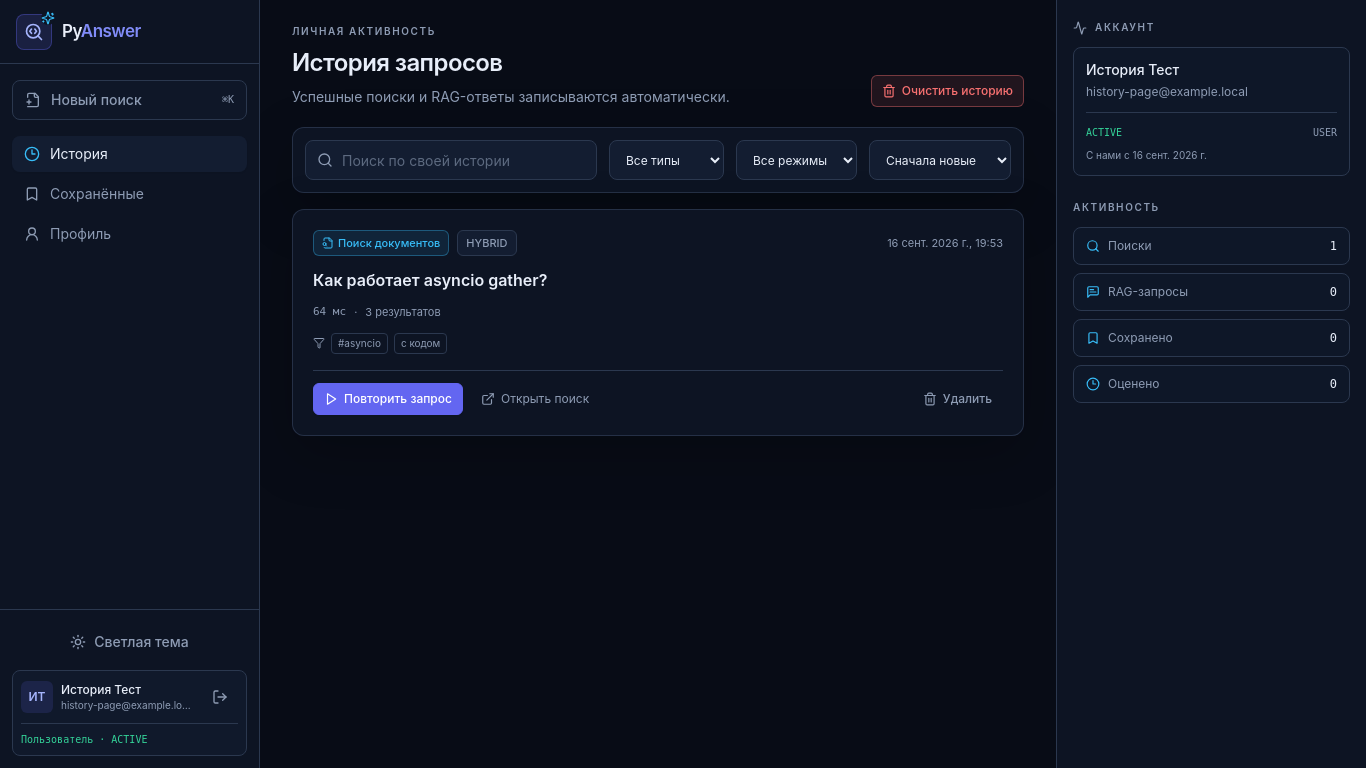
Test: HistoryPage › очищает историю только после подтверждения
Expected: the heading "Как работает asyncio gather?" is shown, [313,270,547,290]
Step 1. Click the button "Очистить историю" → (947, 91), box [871,75,1024,107]
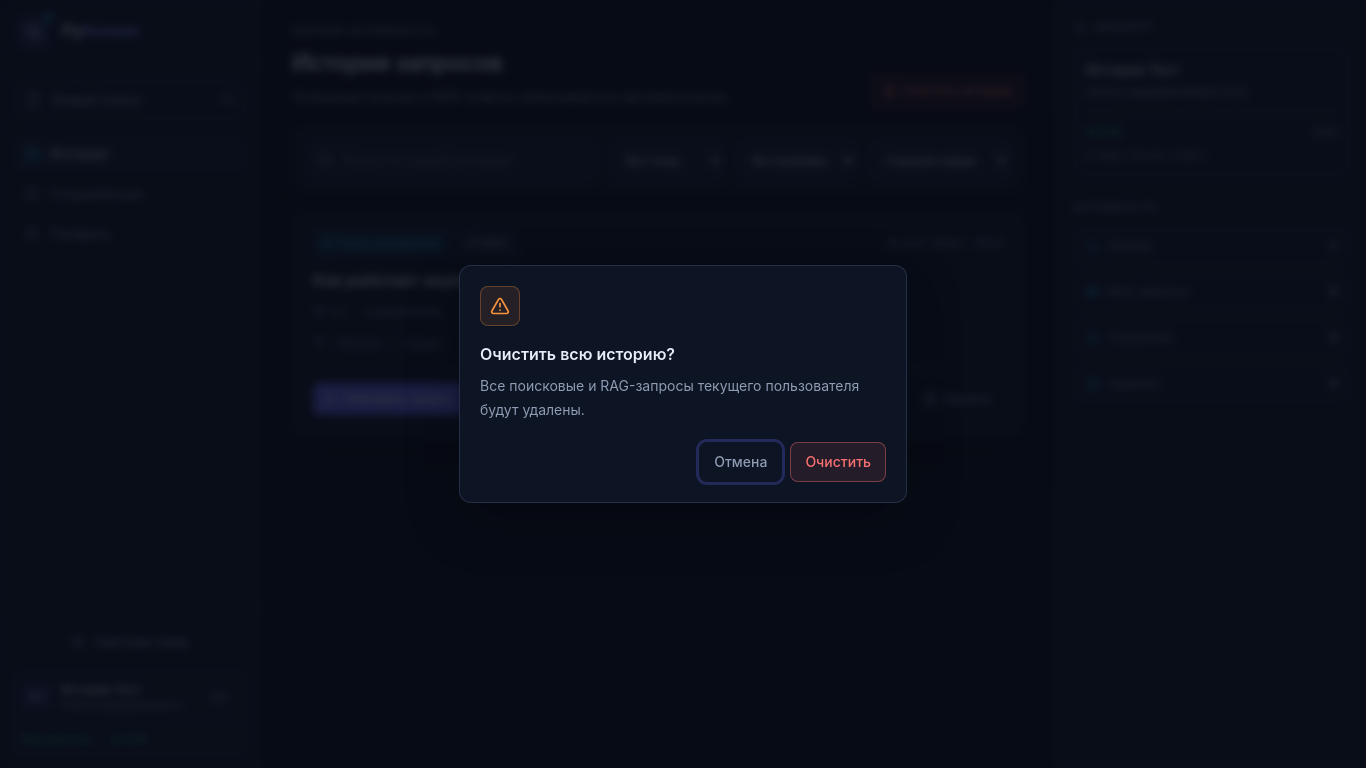
Step 2. Click the button "Очистить" → (838, 462), box [790,442,886,482]
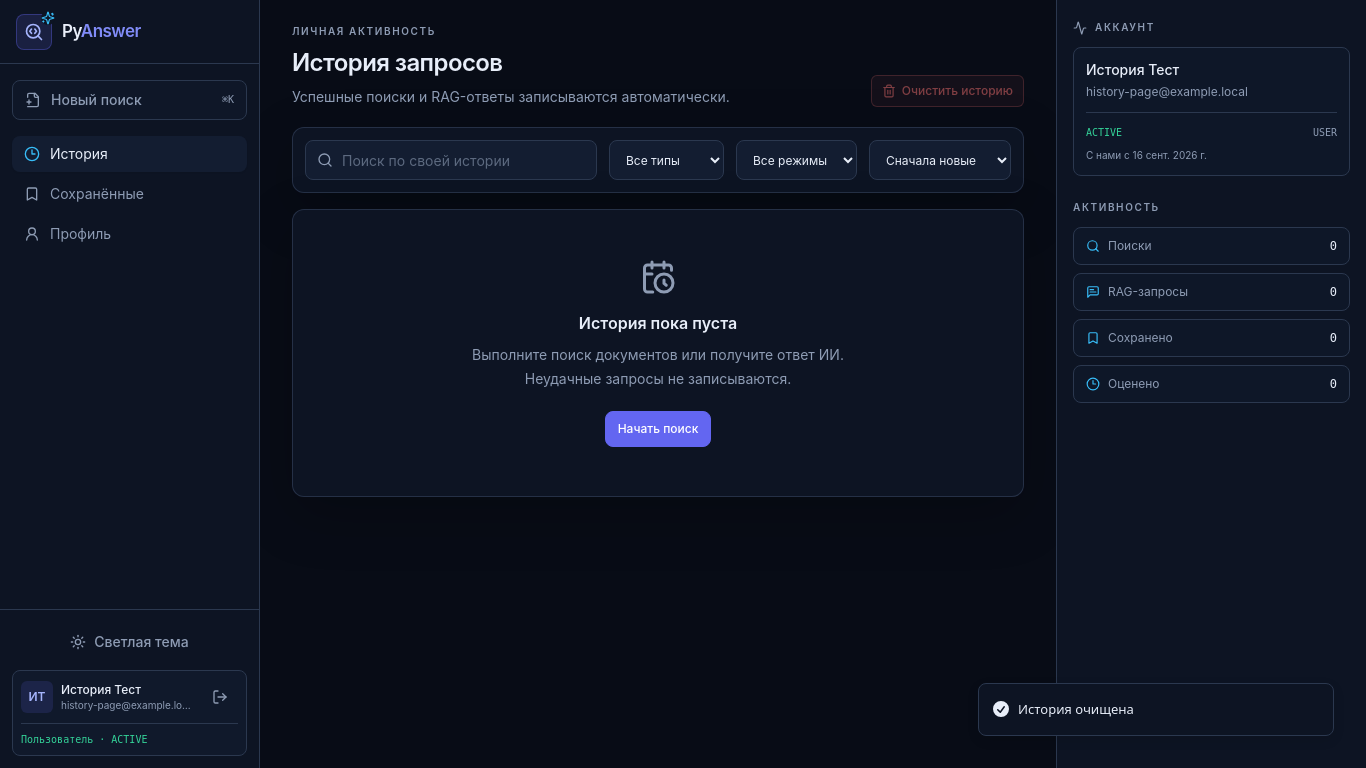
Result: the heading "История пока пуста" is shown at [579,313,737,333]
